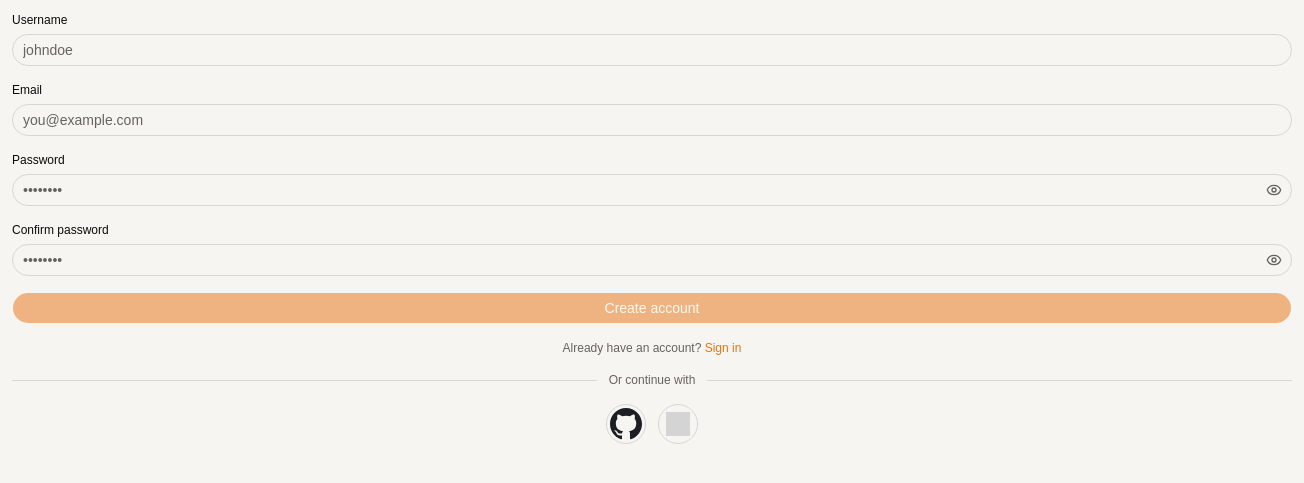
Scenario: SignupForm › submit button enables when all fields are valid
The image size is (1304, 483).
Type "newuser" into the field with placeholder "johndoe" at (652, 50), box [12,34,1292,66]
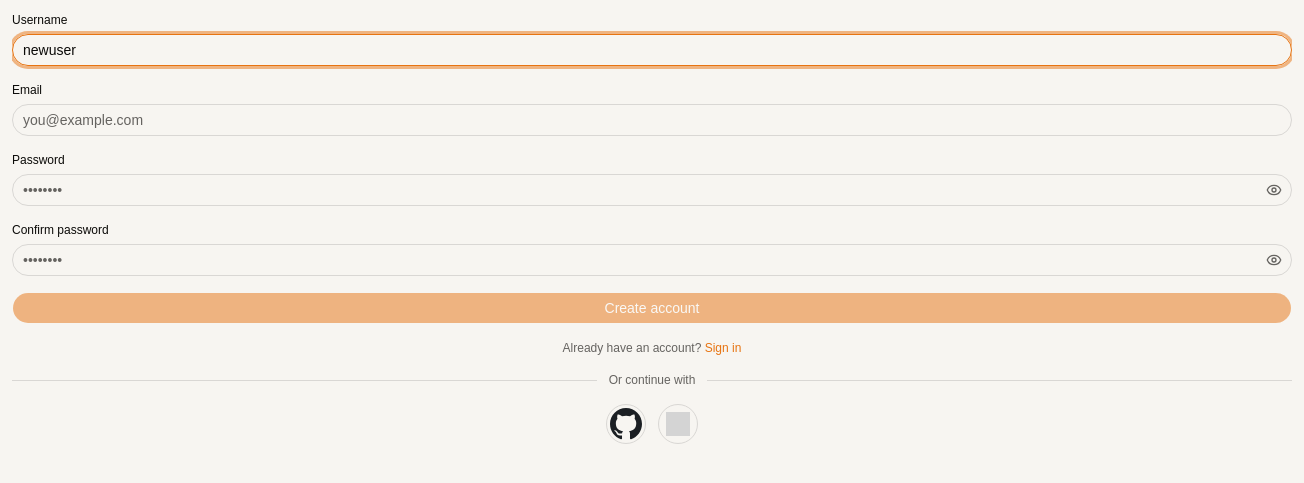
Type "new@example.com" into the field with placeholder "you@example.com" at (652, 120), box [12,104,1292,136]
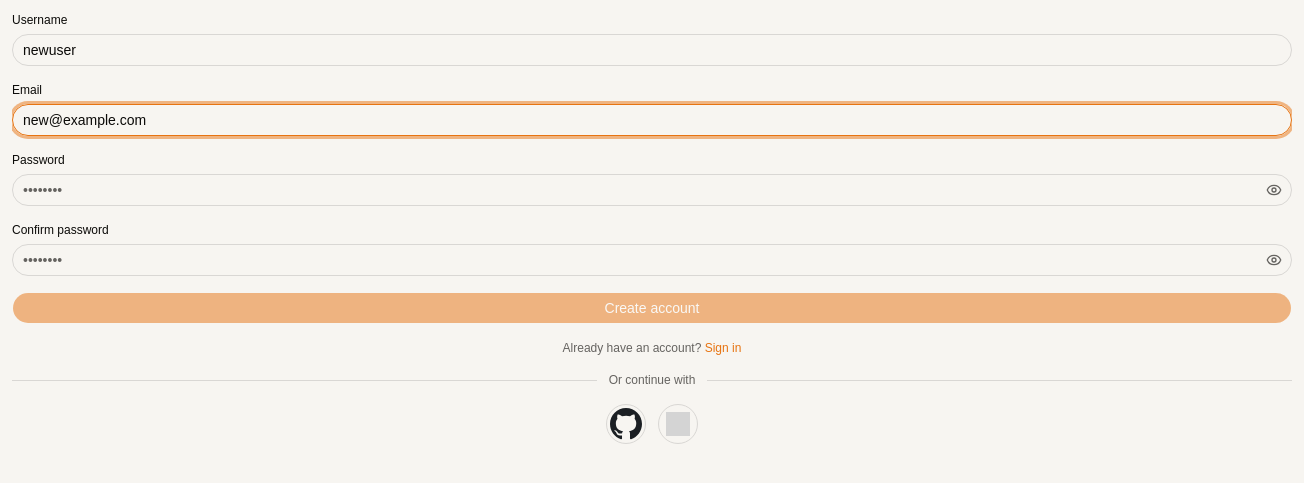
Type "StrongPass1!" into the 1st password field with placeholder "••••••••" at (652, 190), box [12,174,1292,206]
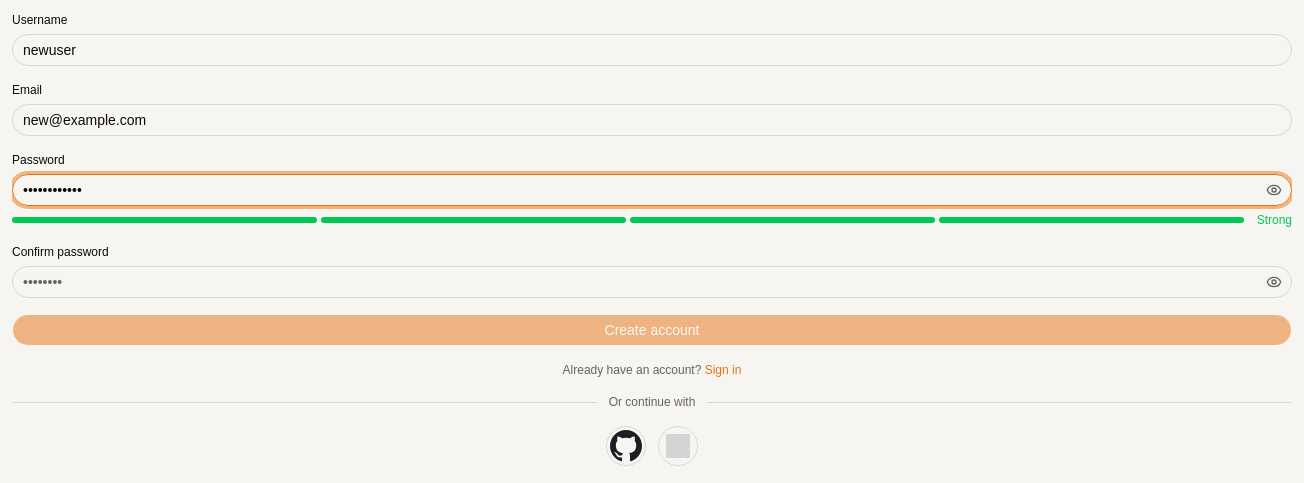
Type "StrongPass1!" into the password field with placeholder "••••••••" at (652, 282), box [12,266,1292,298]
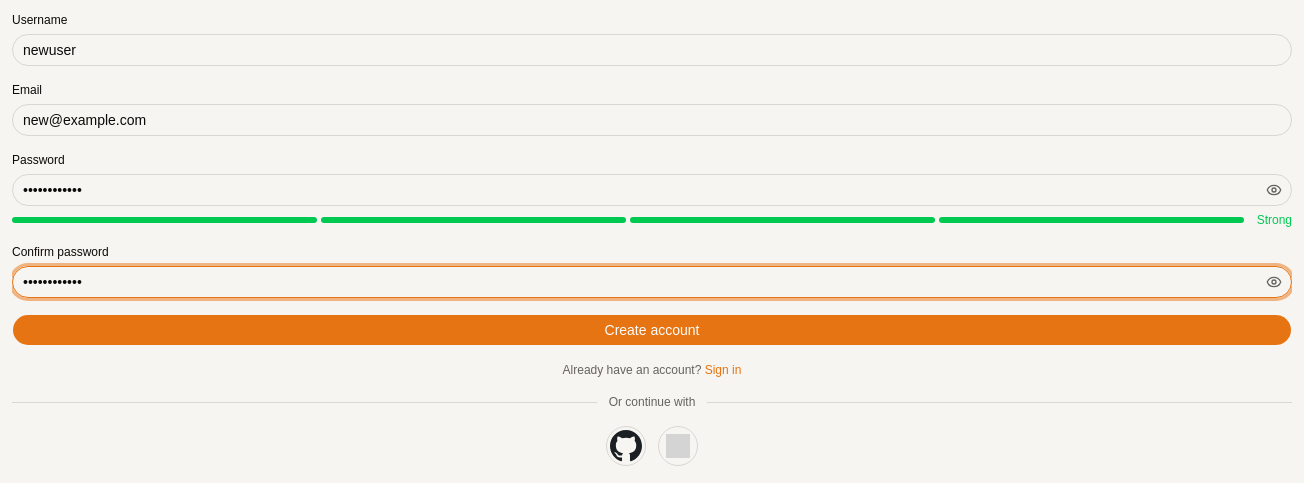
Check: the button "Create account" is enabled, box [12,314,1292,346]
